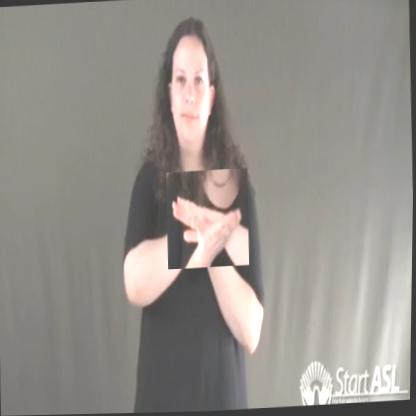NiceToMeetYou: (166, 169, 251, 271)
